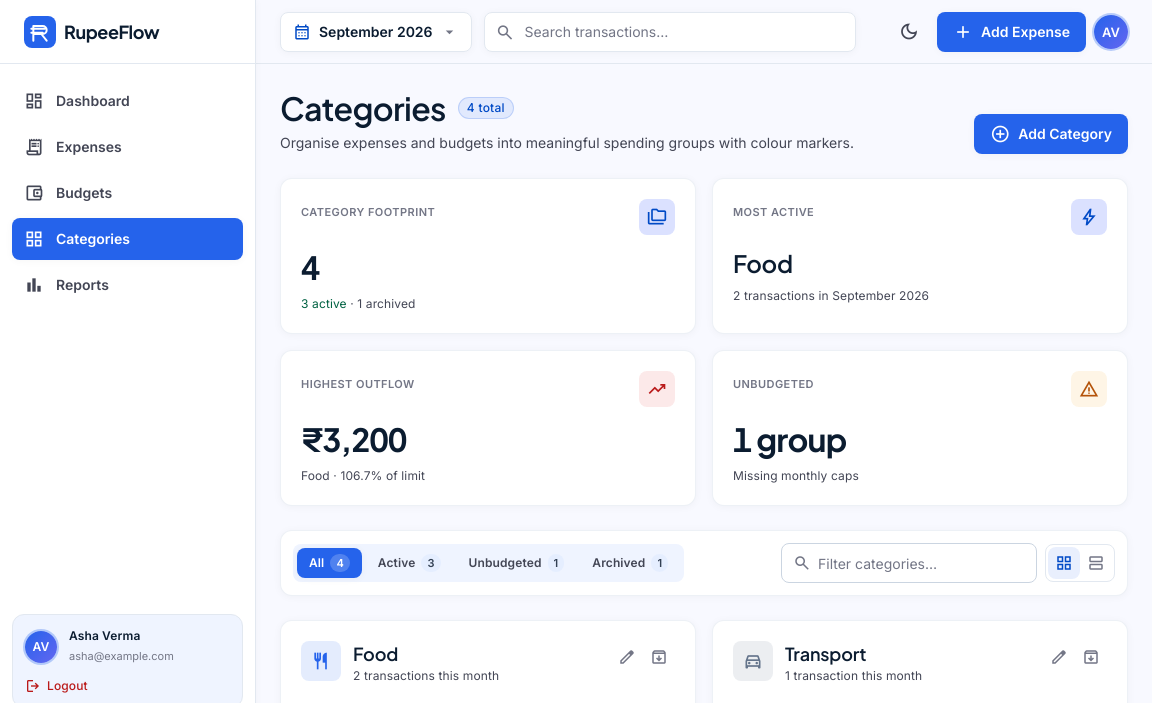
Categories › uses "archive" wording, not "delete"
The image size is (1152, 703).
Click the button named "Archive Food": [659, 657] box [643,641,675,673]
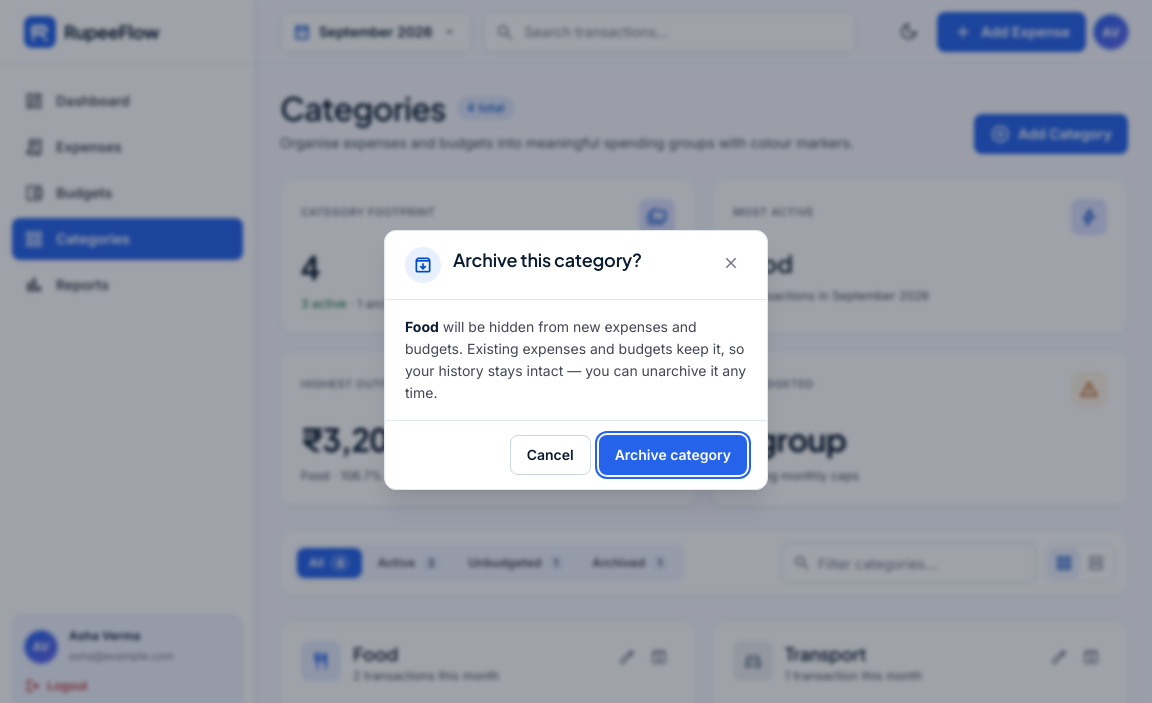
Now the text "history stays intact" is shown, box [405,318,746,401]
Click the button "Archive category": [673, 455] box [599,435,747,475]
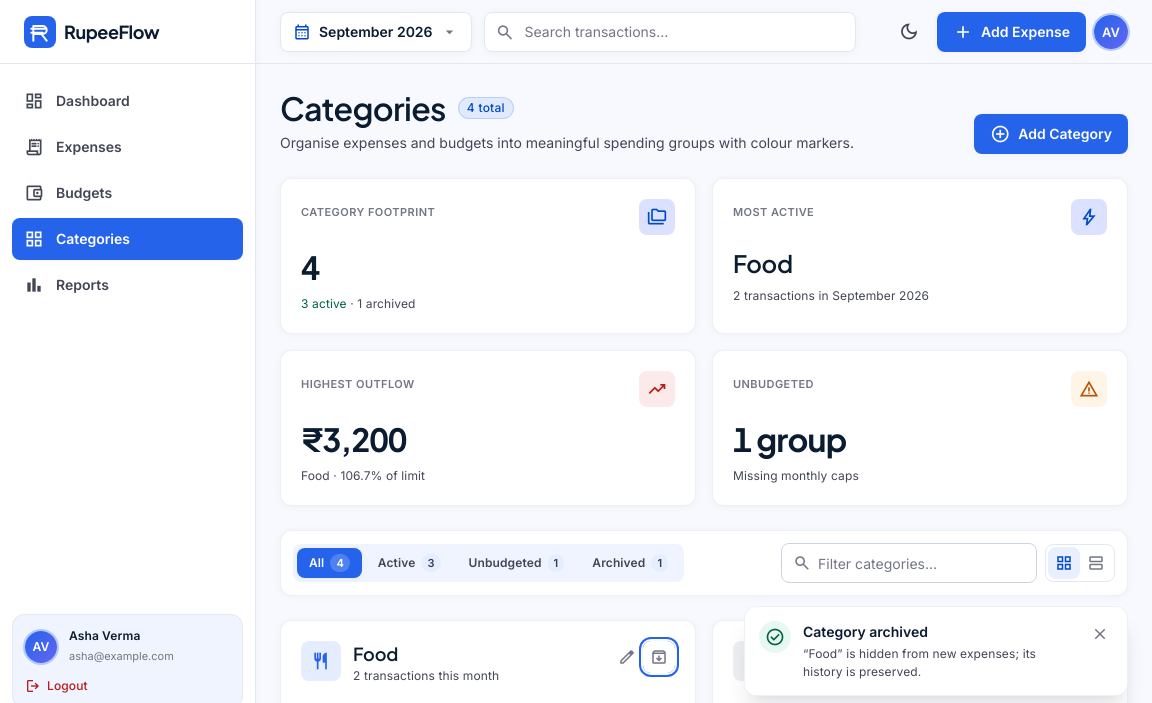
Now the text "Category archived" is shown, box [803,623,928,640]
